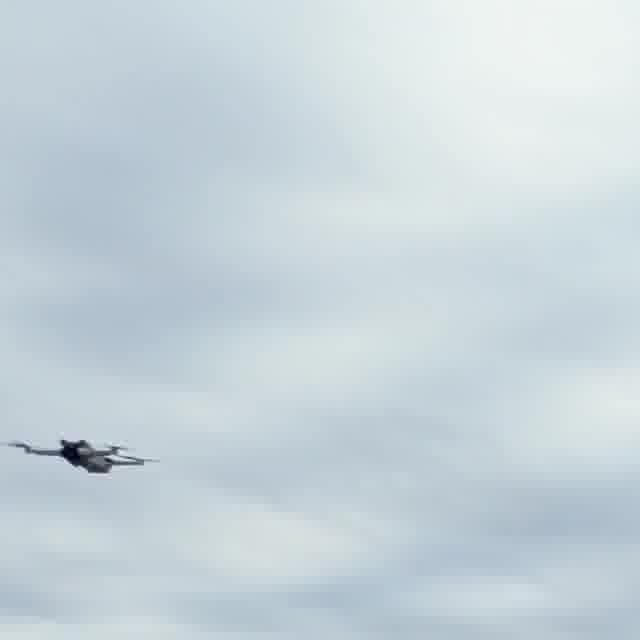Drohne: (6, 439, 157, 473)
